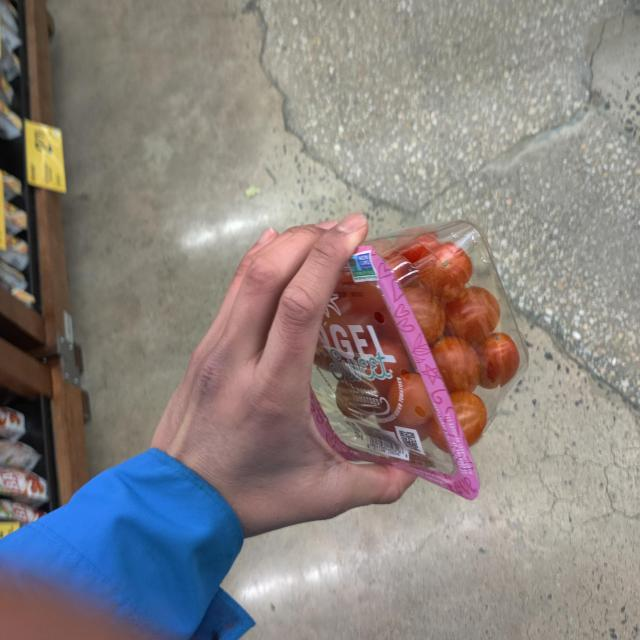Tomatoes: (278, 165, 558, 524)
